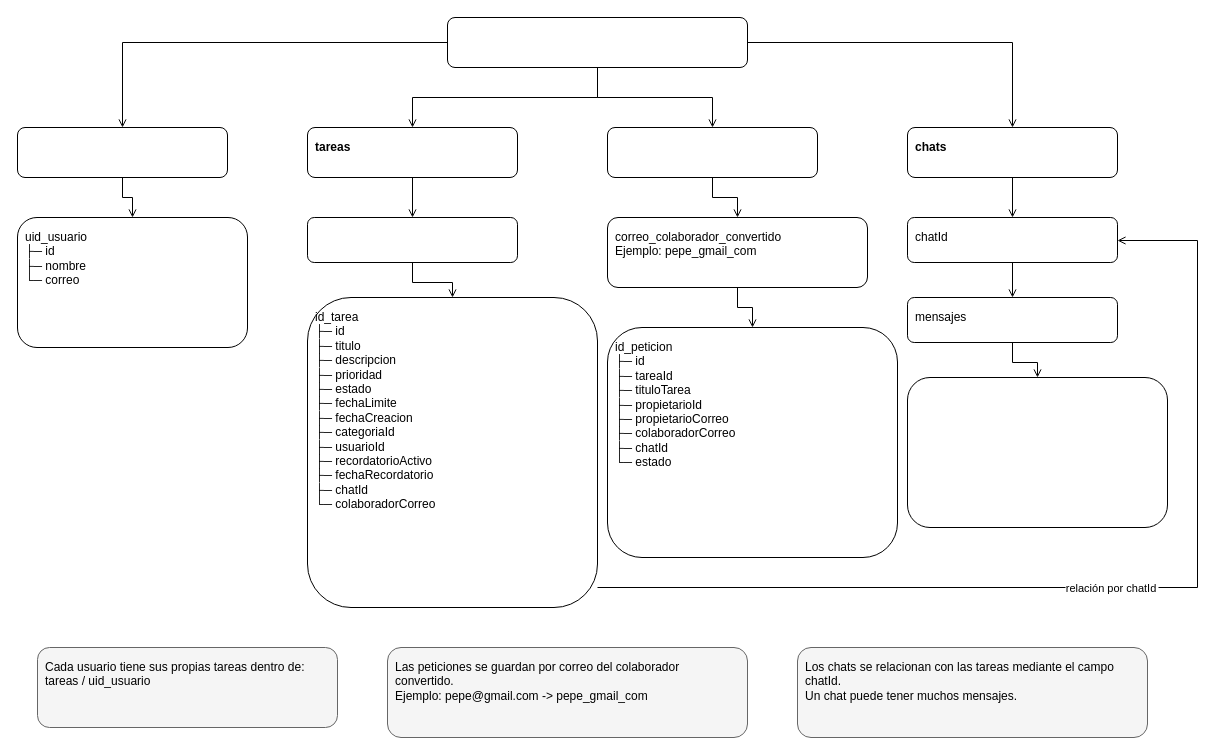
Some shapes in this 1223 by 755 pixel diagram are drawn without their labels. Each missing label, with the box of its shape:
Firebase Realtime Database: (446, 16, 748, 68)
id_mensaje ├─ id ├─ correoAutor ├─ texto └─ fechaEnvio: (906, 376, 1168, 528)
peticiones: (606, 126, 818, 178)
uid_usuario: (306, 216, 518, 262)
usuarios: (16, 126, 228, 178)
